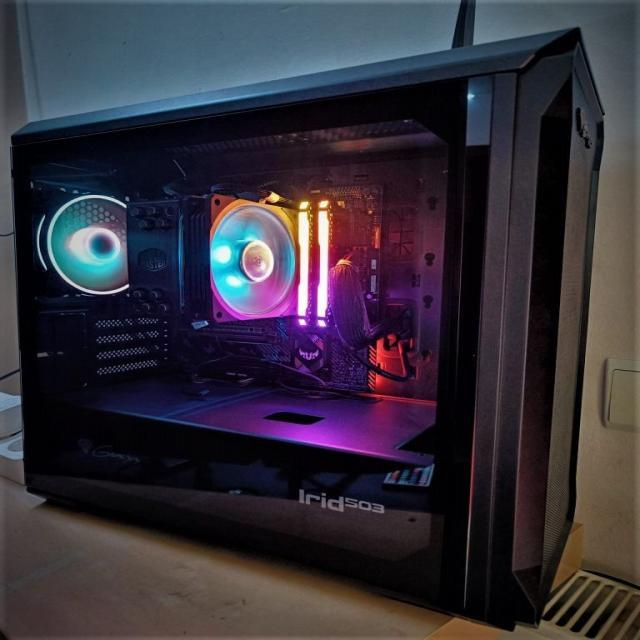Desktop-PC: (4, 24, 612, 636)
